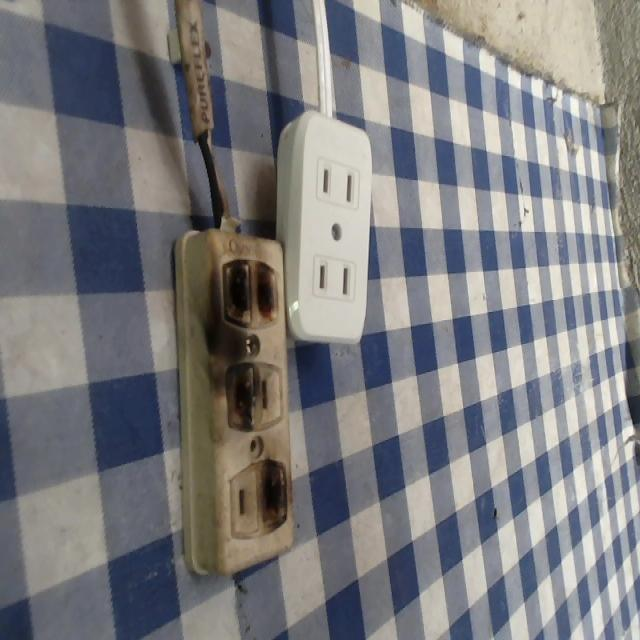-: (211, 252, 280, 333), (217, 354, 261, 430), (253, 452, 293, 533)
